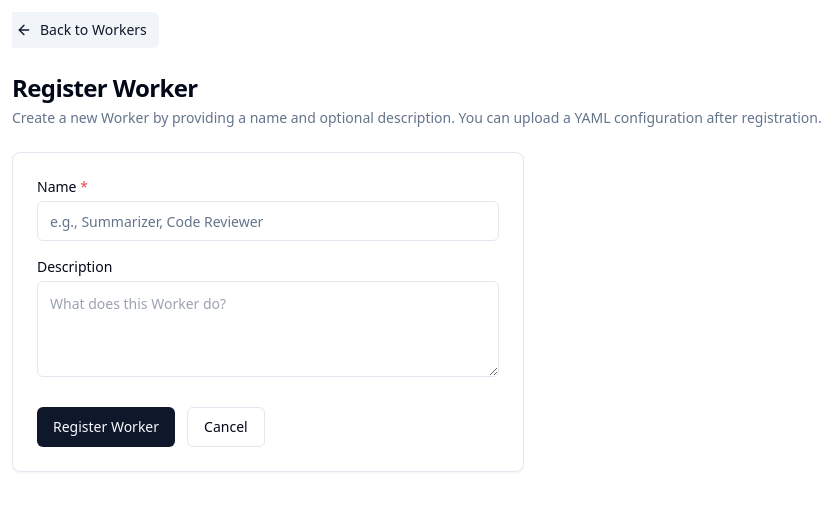
WorkerCreatePage › Validation › clears error when user types in name field
Click the button "Register Worker" at (106, 427), box [37,407,175,447]
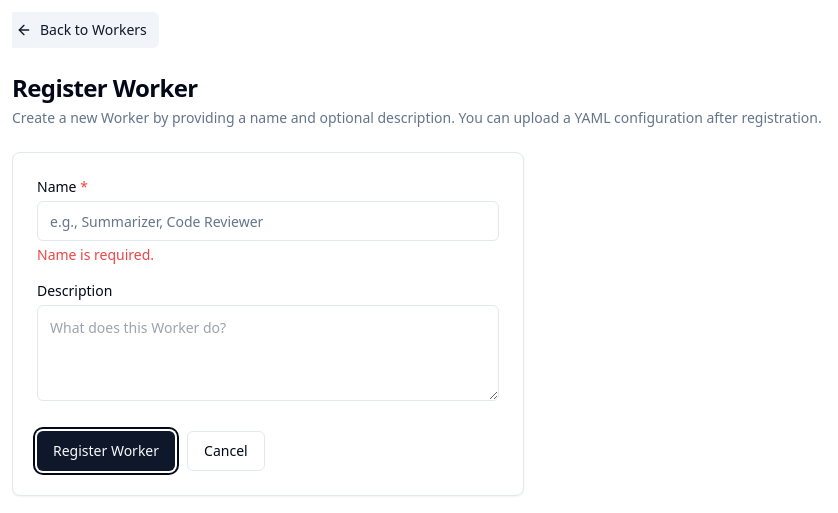
Expected: the text "Name is required." is shown, [37,245,154,264]
Type "Test" into the field labelled "Name *" at (268, 221), box [37,201,499,241]
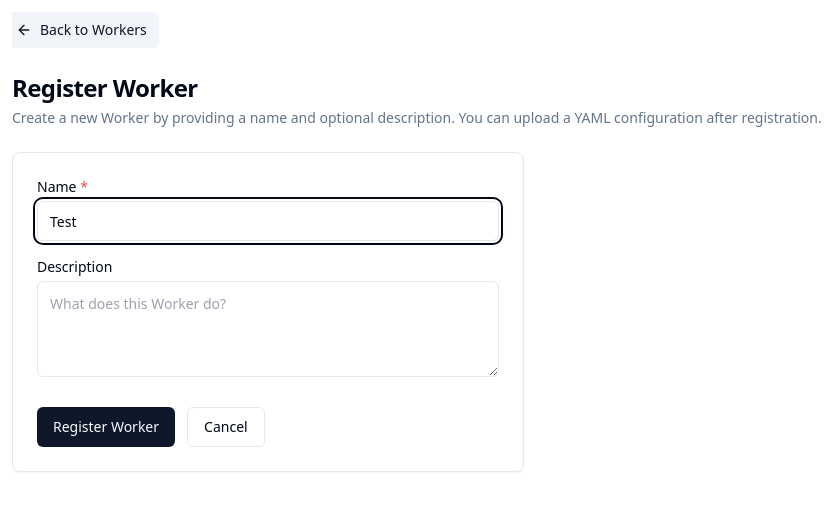
Expected: the text "Name is required." is gone
